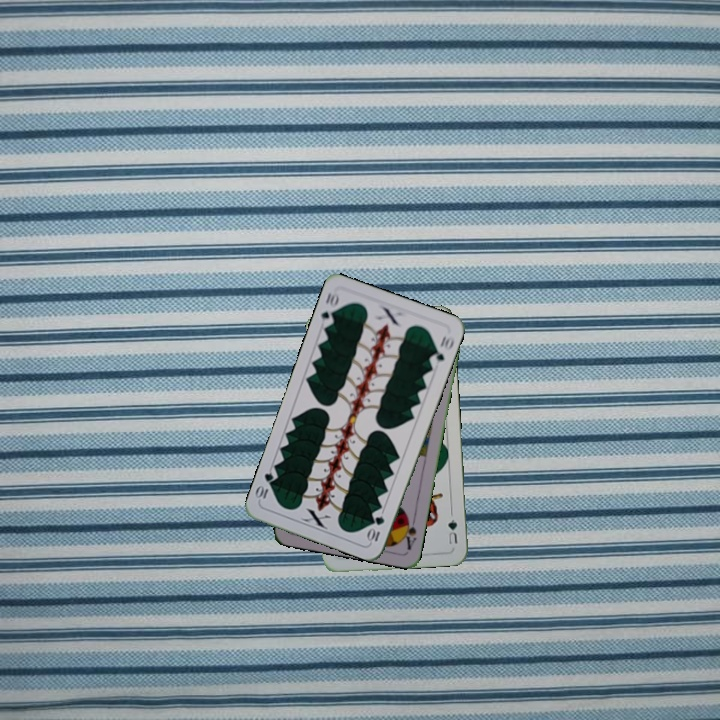G10: (317, 288, 342, 329), (364, 512, 387, 545)
GU: (444, 515, 460, 547)
SA: (399, 511, 419, 552)
